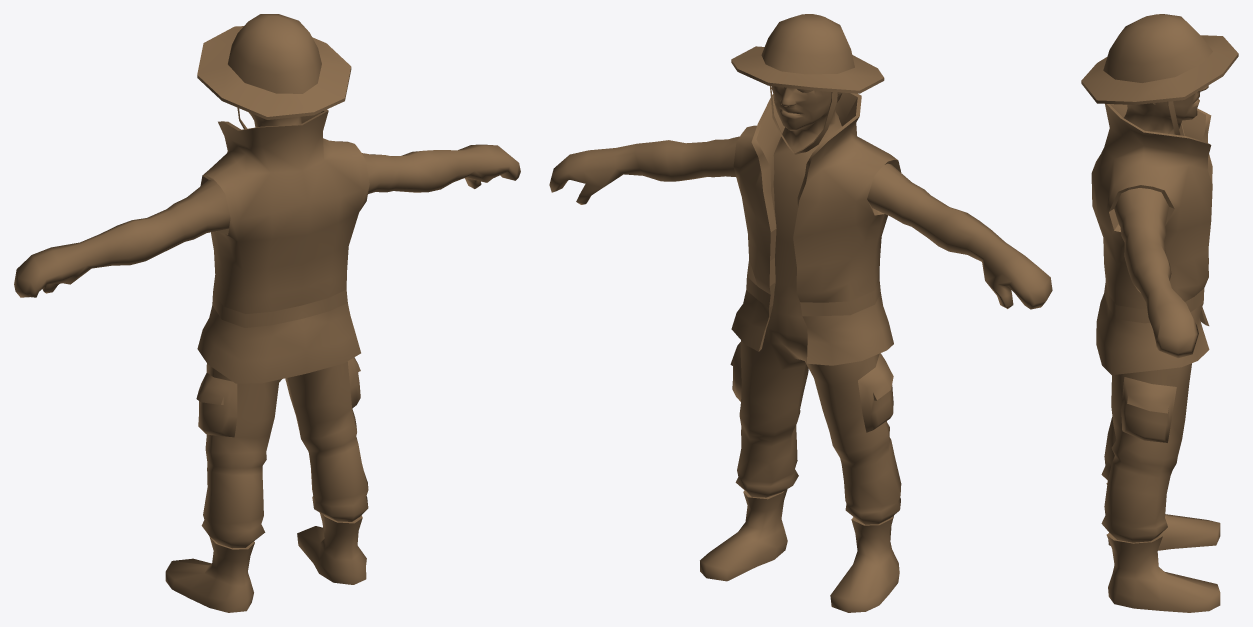
Rendered from PlayerModel.fbx.
3 renders of one model, left to right at view 1: azimuth 30°, elevation 25°; view 2: azimuth 150°, elevation 25°; view 3: azimuth 270°, elevation 25°, orthographic.
Parts seen in each view (by area): view 1: Scout; view 2: Scout; view 3: Scout.
Boxes of the visible parts, x1,y1,x2,y2 form: Scout: (14, 14, 520, 612); Scout: (549, 14, 1052, 612); Scout: (1081, 14, 1238, 612).
Bounding box in the file's own units: 198 × 212 × 54.73.
